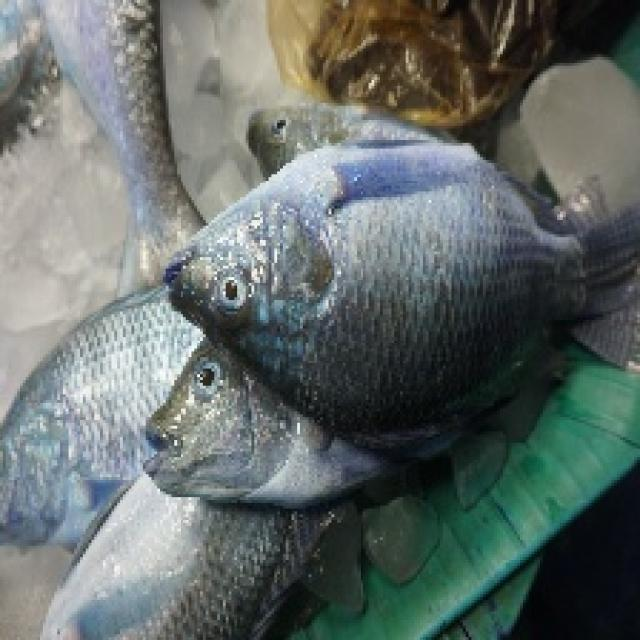Fresh: (135, 117, 640, 410), (145, 343, 249, 487)
